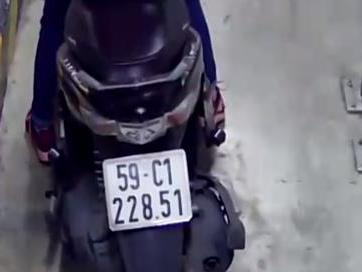num_plate: (102, 149, 194, 231)
